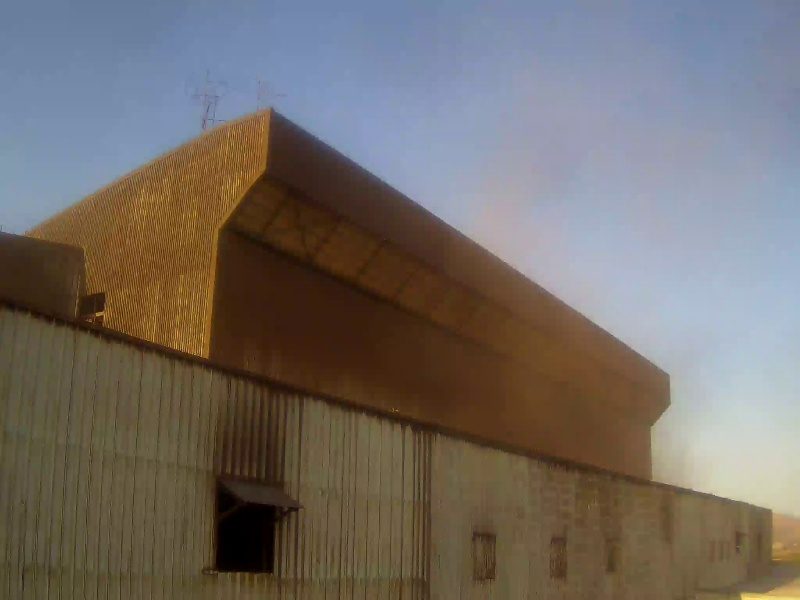bom: (4, 1, 269, 266), (266, 28, 443, 314)
ruim: (459, 119, 704, 481)
